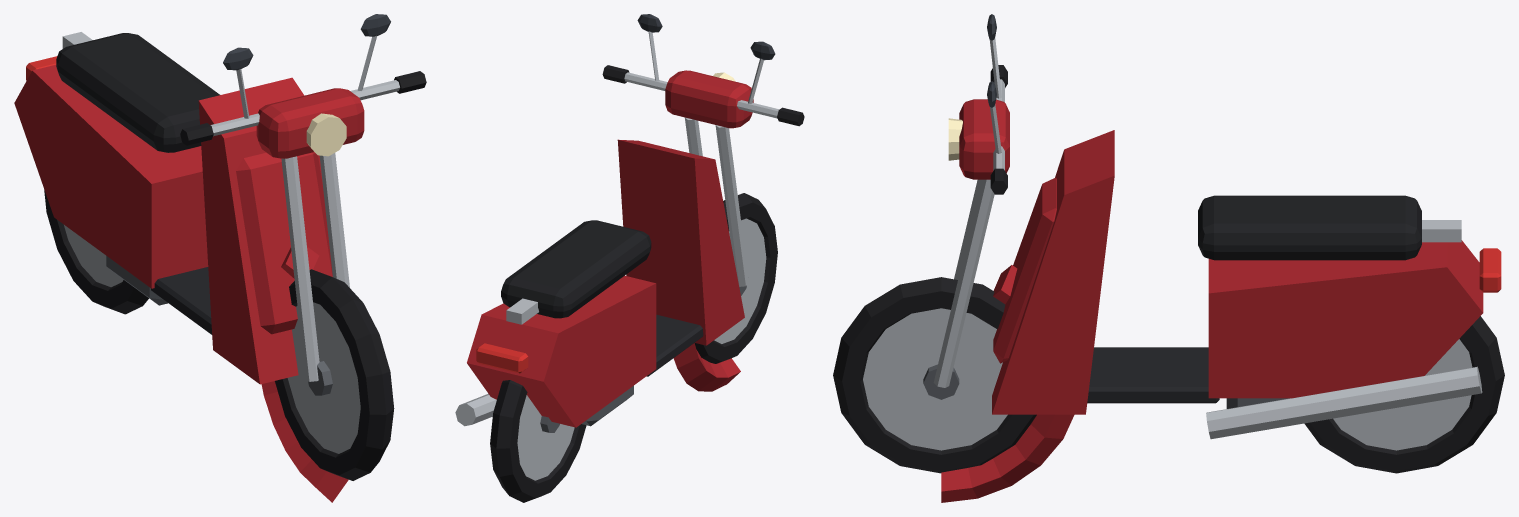
Rendered from VEH_Motorbike_Red.fbx.
The picture shows the model from 3 angles, left to right: view 1: azimuth 30°, elevation 25°; view 2: azimuth 150°, elevation 25°; view 3: azimuth 270°, elevation 25°; orthographic projection. The views are drawn at different scales.
Visible parts, largest first — view 1: VEH_Motorbike_Red; view 2: VEH_Motorbike_Red; view 3: VEH_Motorbike_Red.
Boxes of the visible parts, box(x1,y1,x2,y2) form: VEH_Motorbike_Red: box(14, 14, 426, 502); VEH_Motorbike_Red: box(455, 14, 804, 502); VEH_Motorbike_Red: box(833, 14, 1504, 502).
Bounding box in the file's own units: 0.76 × 1.38 × 1.86.
